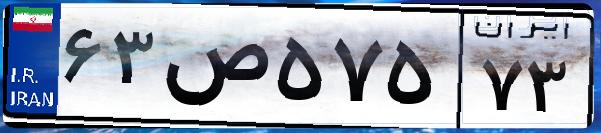3: (525, 38, 570, 115), (110, 28, 158, 98)
5: (270, 28, 330, 110), (385, 28, 445, 110)
6: (57, 26, 110, 100)
7: (330, 28, 385, 110), (475, 38, 525, 113)
ص: (158, 20, 270, 120)
